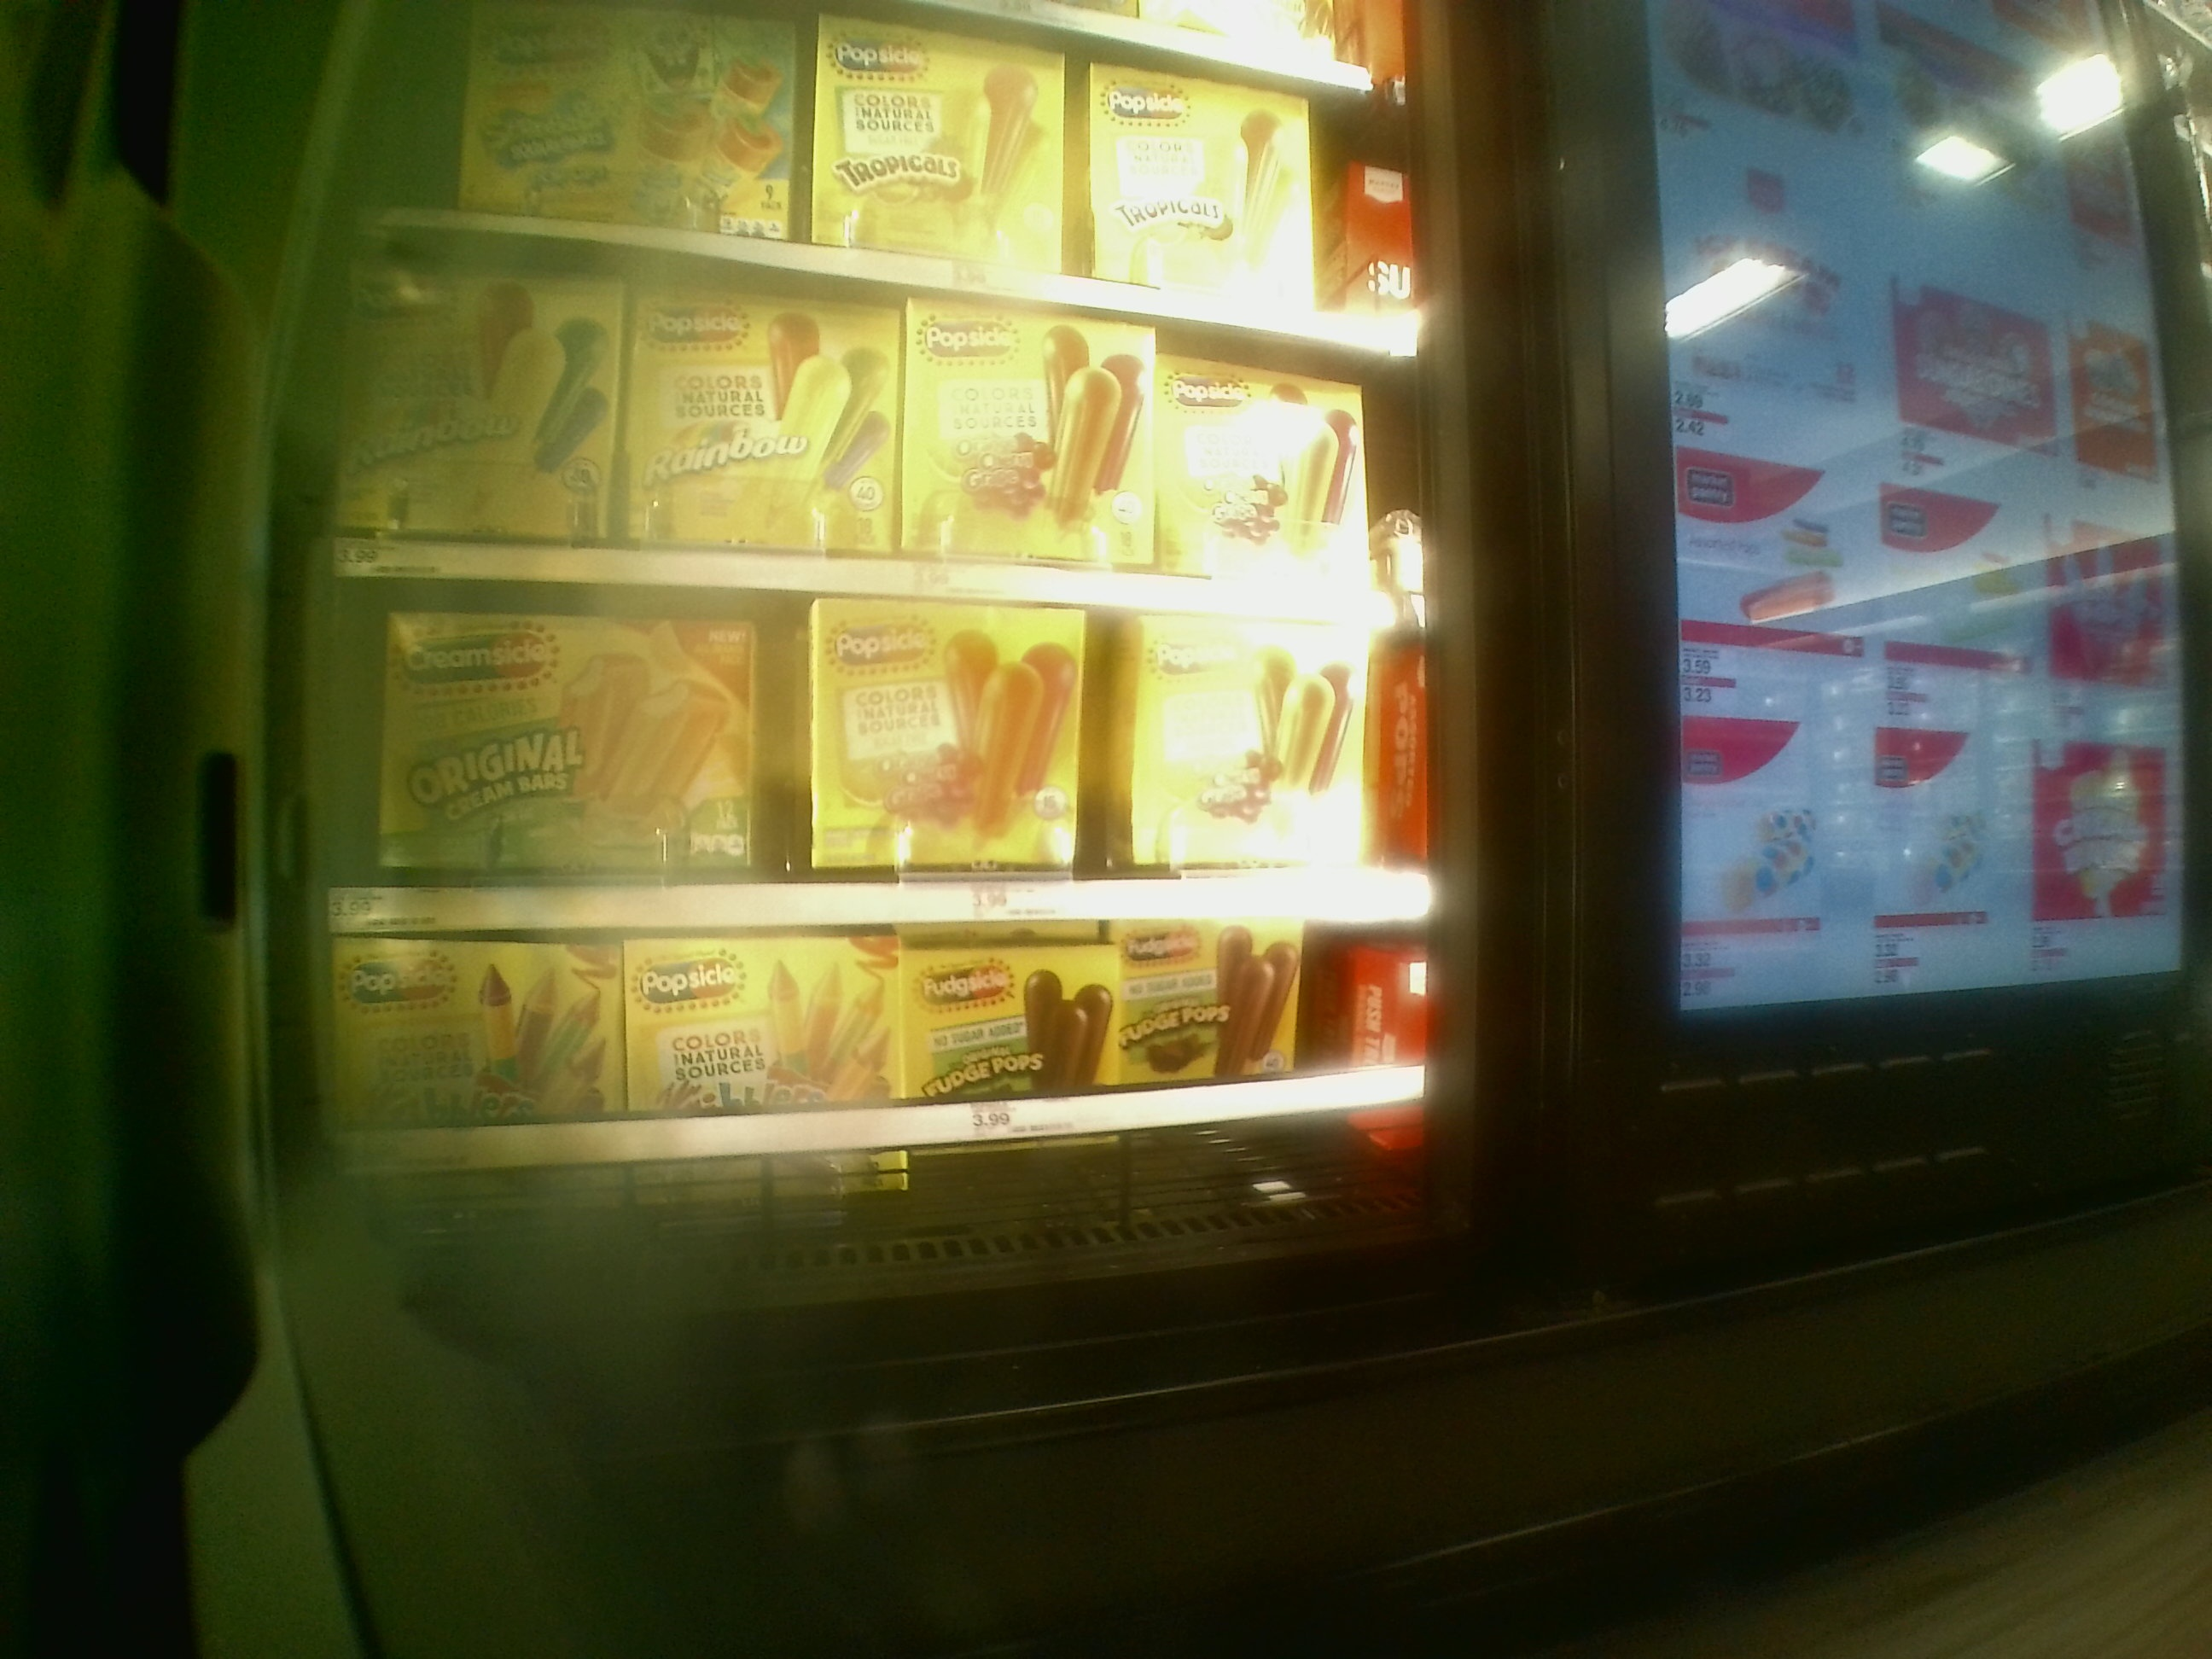shelf: (310, 577, 1399, 911), (314, 931, 1437, 1218)
